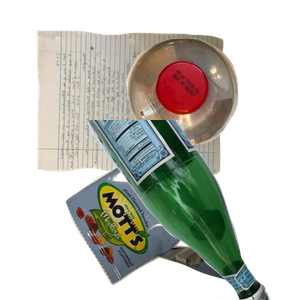glass: (75, 120, 300, 300)
paper: (32, 28, 249, 196)
plastic: (124, 36, 300, 175)
trash: (63, 137, 289, 300)
